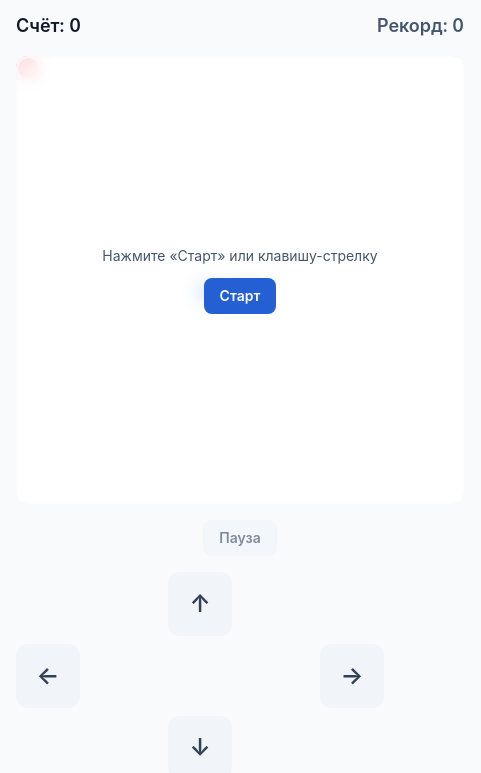
Test: SnakeGame › moves on its own once started
Click the button "Старт". click: (240, 296)
box: [204, 278, 276, 314]
Wait 420 ms
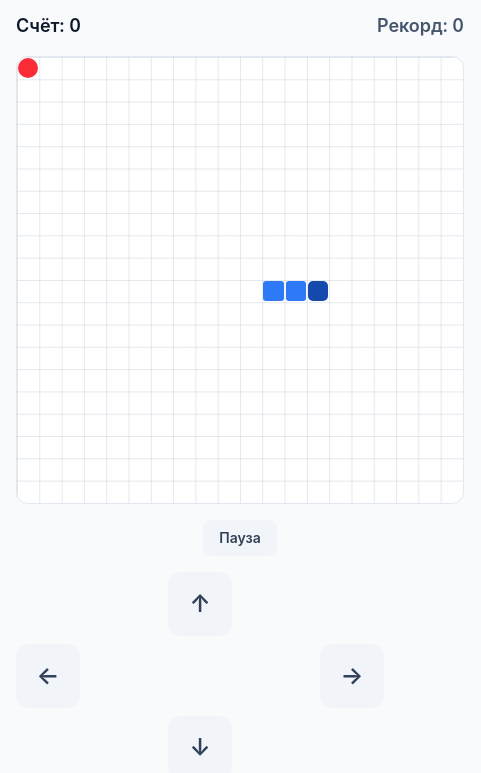
Expected: the text "Старт" is gone
